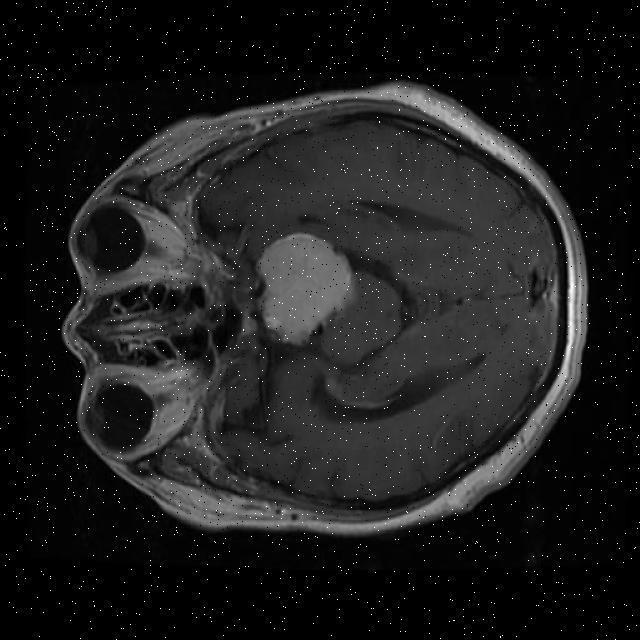Meningioma: (259, 234, 353, 345)
